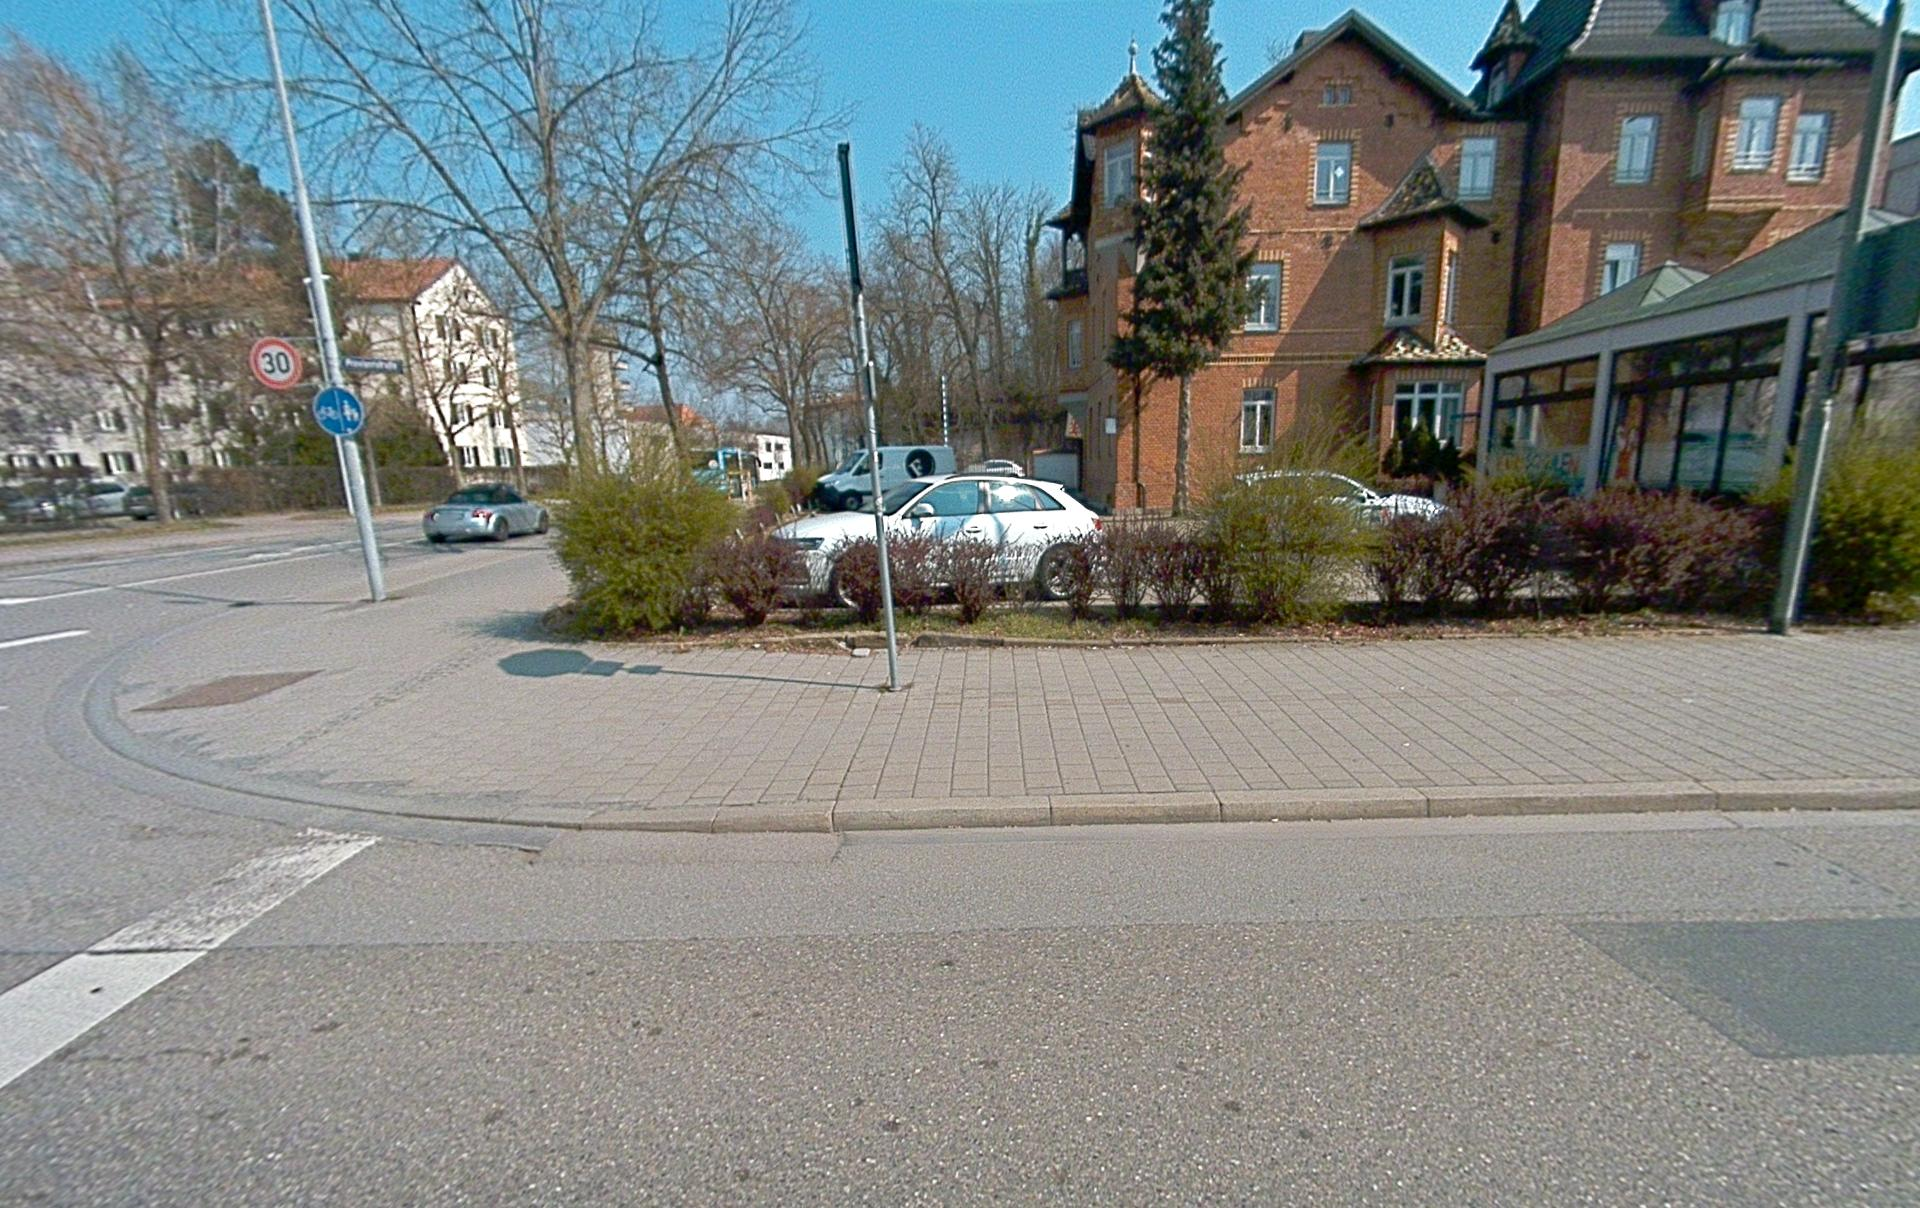car: (763, 471, 1106, 608), (1228, 468, 1453, 533), (423, 482, 550, 544)
traffic sign: (249, 336, 303, 390), (312, 386, 366, 437), (342, 356, 405, 374)
